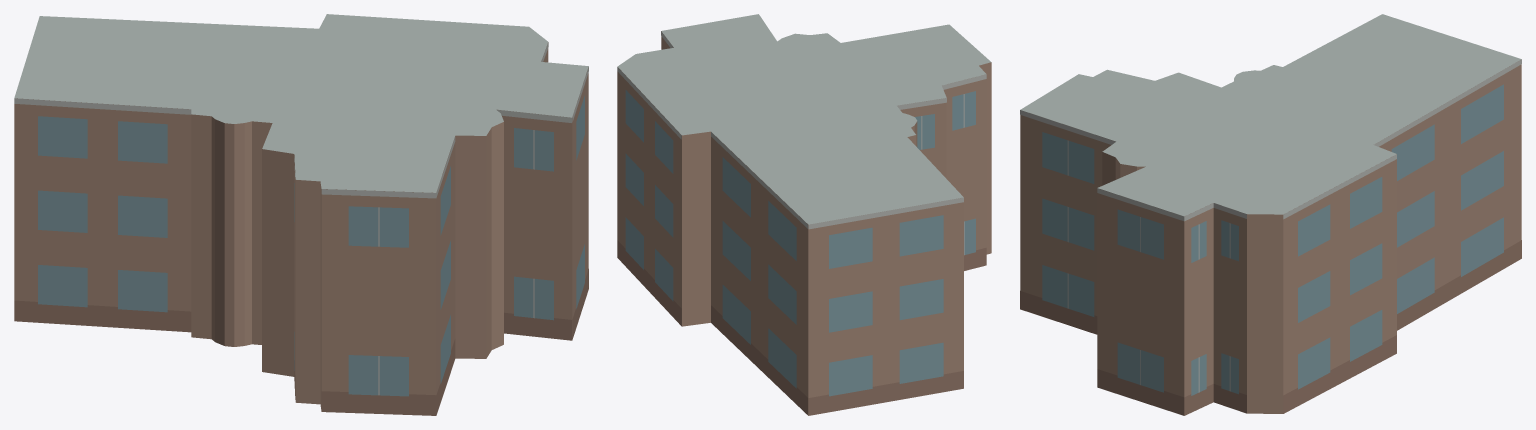
The model's file is survey-upis-32754901.glb.
3 renders of one model, left to right at view 1: azimuth 30°, elevation 25°; view 2: azimuth 150°, elevation 25°; view 3: azimuth 270°, elevation 25°, orthographic. The views are drawn at different scales.
Parts seen in each view (by area): view 1: survey-upis-32754901.tmp; view 2: survey-upis-32754901.tmp; view 3: survey-upis-32754901.tmp.
Part boxes in pixels (x1=…): survey-upis-32754901.tmp: x1=14, y1=14, x2=588, y2=415; survey-upis-32754901.tmp: x1=617, y1=14, x2=991, y2=415; survey-upis-32754901.tmp: x1=1020, y1=14, x2=1521, y2=415.
Size of the model in its own units: 21.34 by 9.8 by 22.35.
